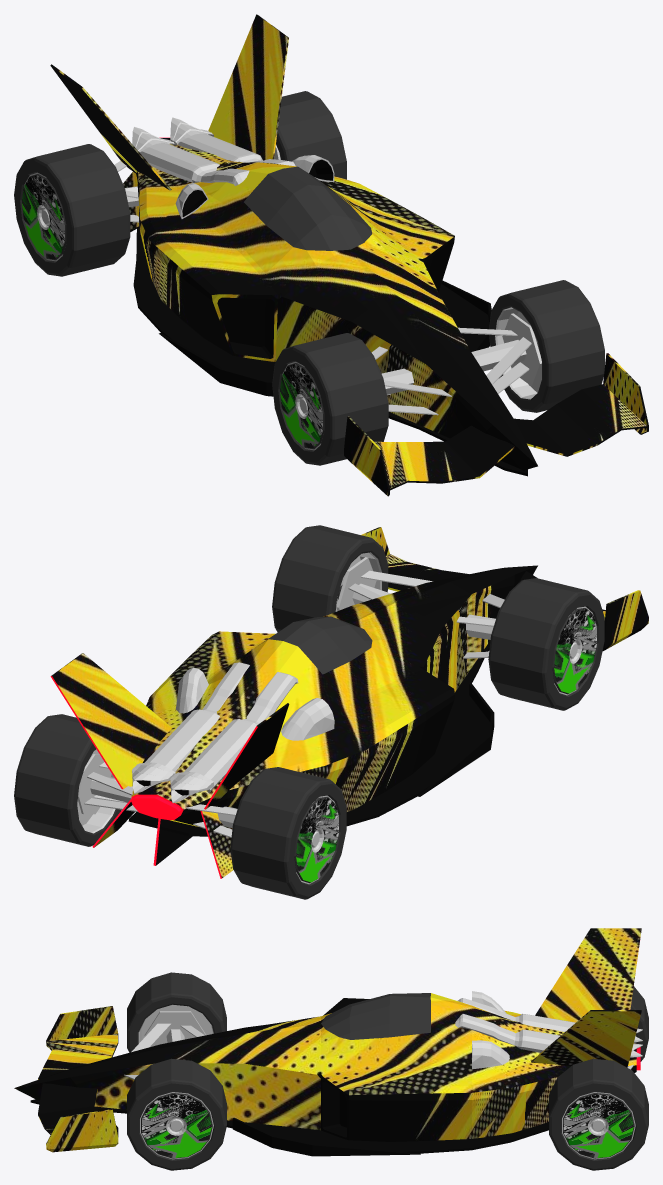
Rendered from f1-70s_rework.glb.
3 renders of one model, top to bottom at view 1: azimuth 30°, elevation 25°; view 2: azimuth 150°, elevation 25°; view 3: azimuth 270°, elevation 25°, orthographic. The views are drawn at different scales.
Parts seen in each view (by area): view 1: Cube, Circle.003, Circle.002, Circle, Circle.001; view 2: Cube, Circle.002, Circle.003, Circle.001, Circle; view 3: Cube, Circle.001, Circle, Circle.002, Circle.003.
Part boxes in pixels (left/top/right/bottom): Cube: left=50, top=14, right=648, bottom=496; Circle.003: left=14, top=144, right=130, bottom=276; Circle.002: left=272, top=333, right=388, bottom=465; Circle: left=489, top=280, right=604, bottom=412; Circle.001: left=276, top=91, right=346, bottom=179; Cube: left=50, top=527, right=648, bottom=878; Circle.002: left=488, top=578, right=604, bottom=710; Circle.003: left=230, top=767, right=346, bottom=899; Circle.001: left=14, top=714, right=121, bottom=846; Circle: left=272, top=525, right=388, bottom=632; Cube: left=14, top=928, right=642, bottom=1156; Circle.001: left=549, top=1058, right=648, bottom=1170; Circle: left=127, top=1058, right=226, bottom=1170; Circle.002: left=127, top=972, right=226, bottom=1052; Circle.003: left=630, top=986, right=648, bottom=1061.
Bounding box in the file's own units: 1.81 × 1.14 × 4.44.
Materials: 11 (3 with a texture image).
